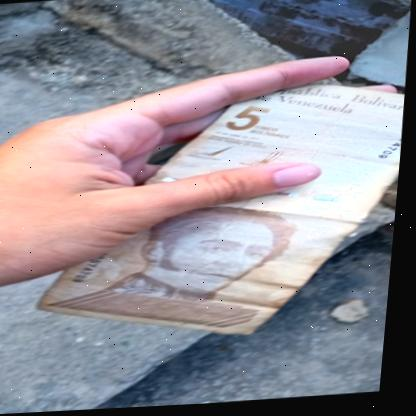five-front-vef: (34, 79, 409, 350)
